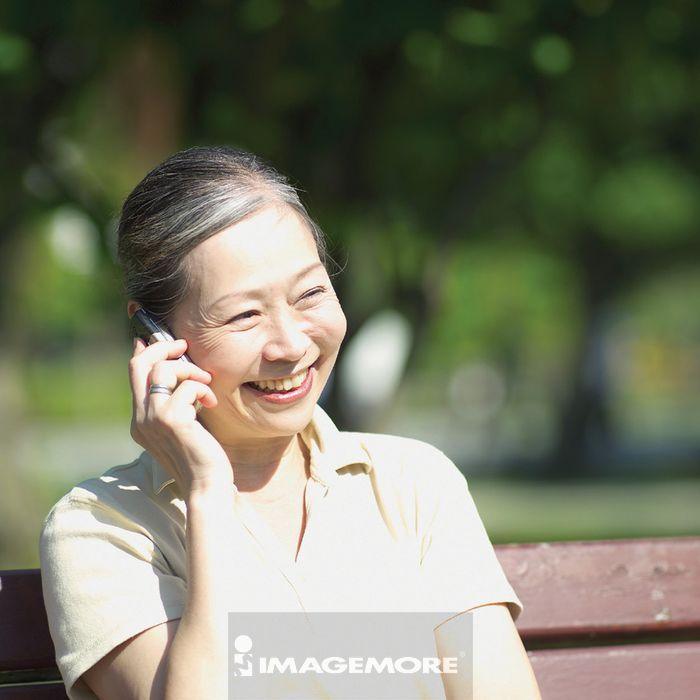talk: (125, 252, 337, 529)
